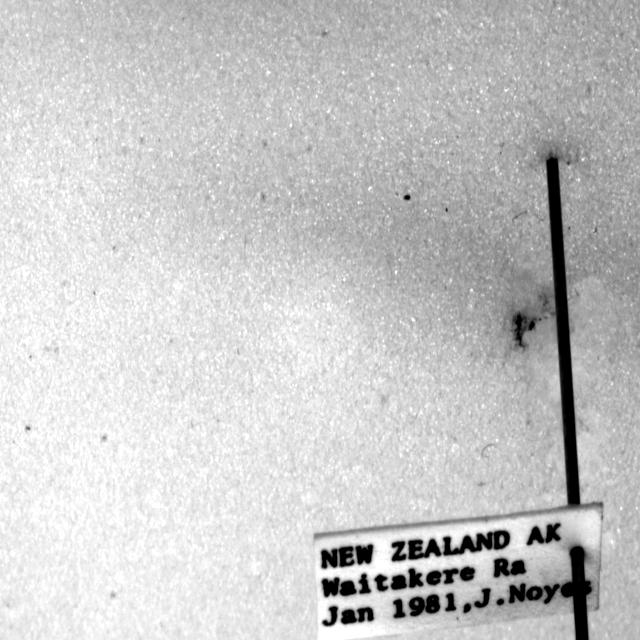typed_label: (314, 502, 602, 639)
